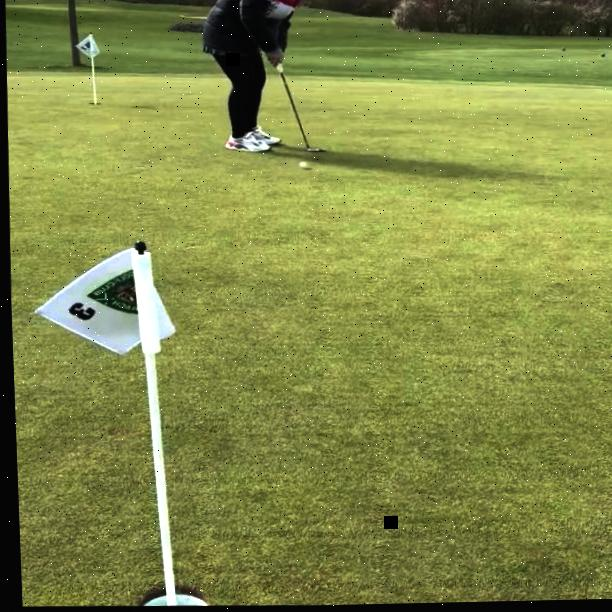ClubHead: (306, 148, 324, 155)
GolfBall: (297, 163, 308, 171)
